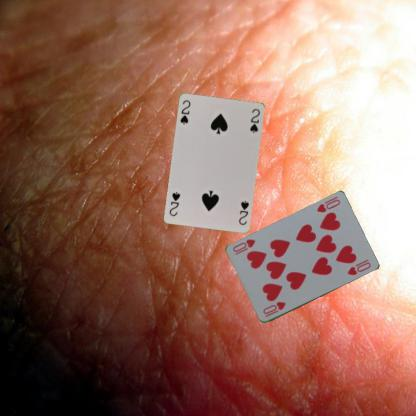10h: (260, 300, 287, 318), (314, 197, 342, 214)
2s: (178, 97, 192, 125), (236, 198, 250, 226)
